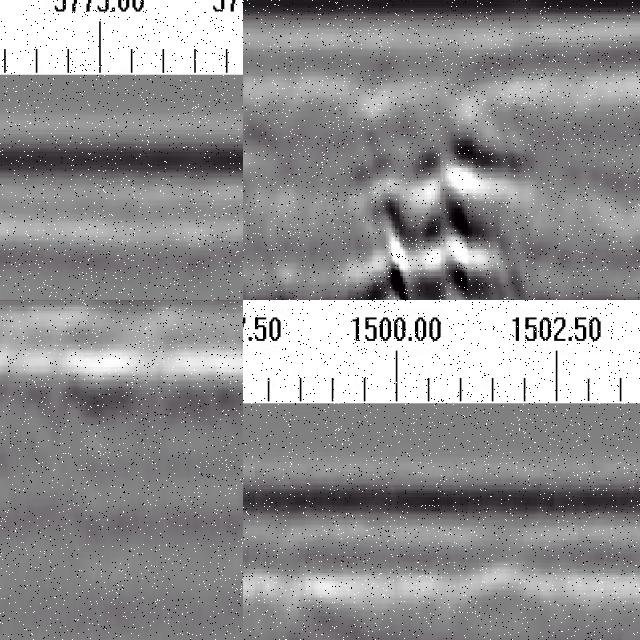loose: (336, 98, 550, 301)
